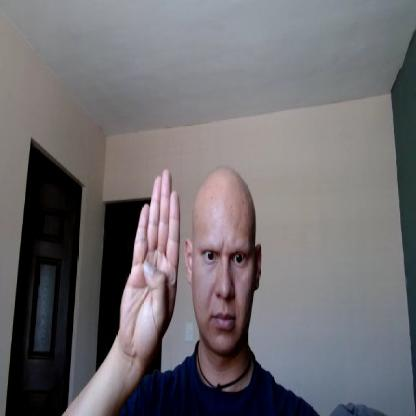B: (120, 167, 182, 356)
